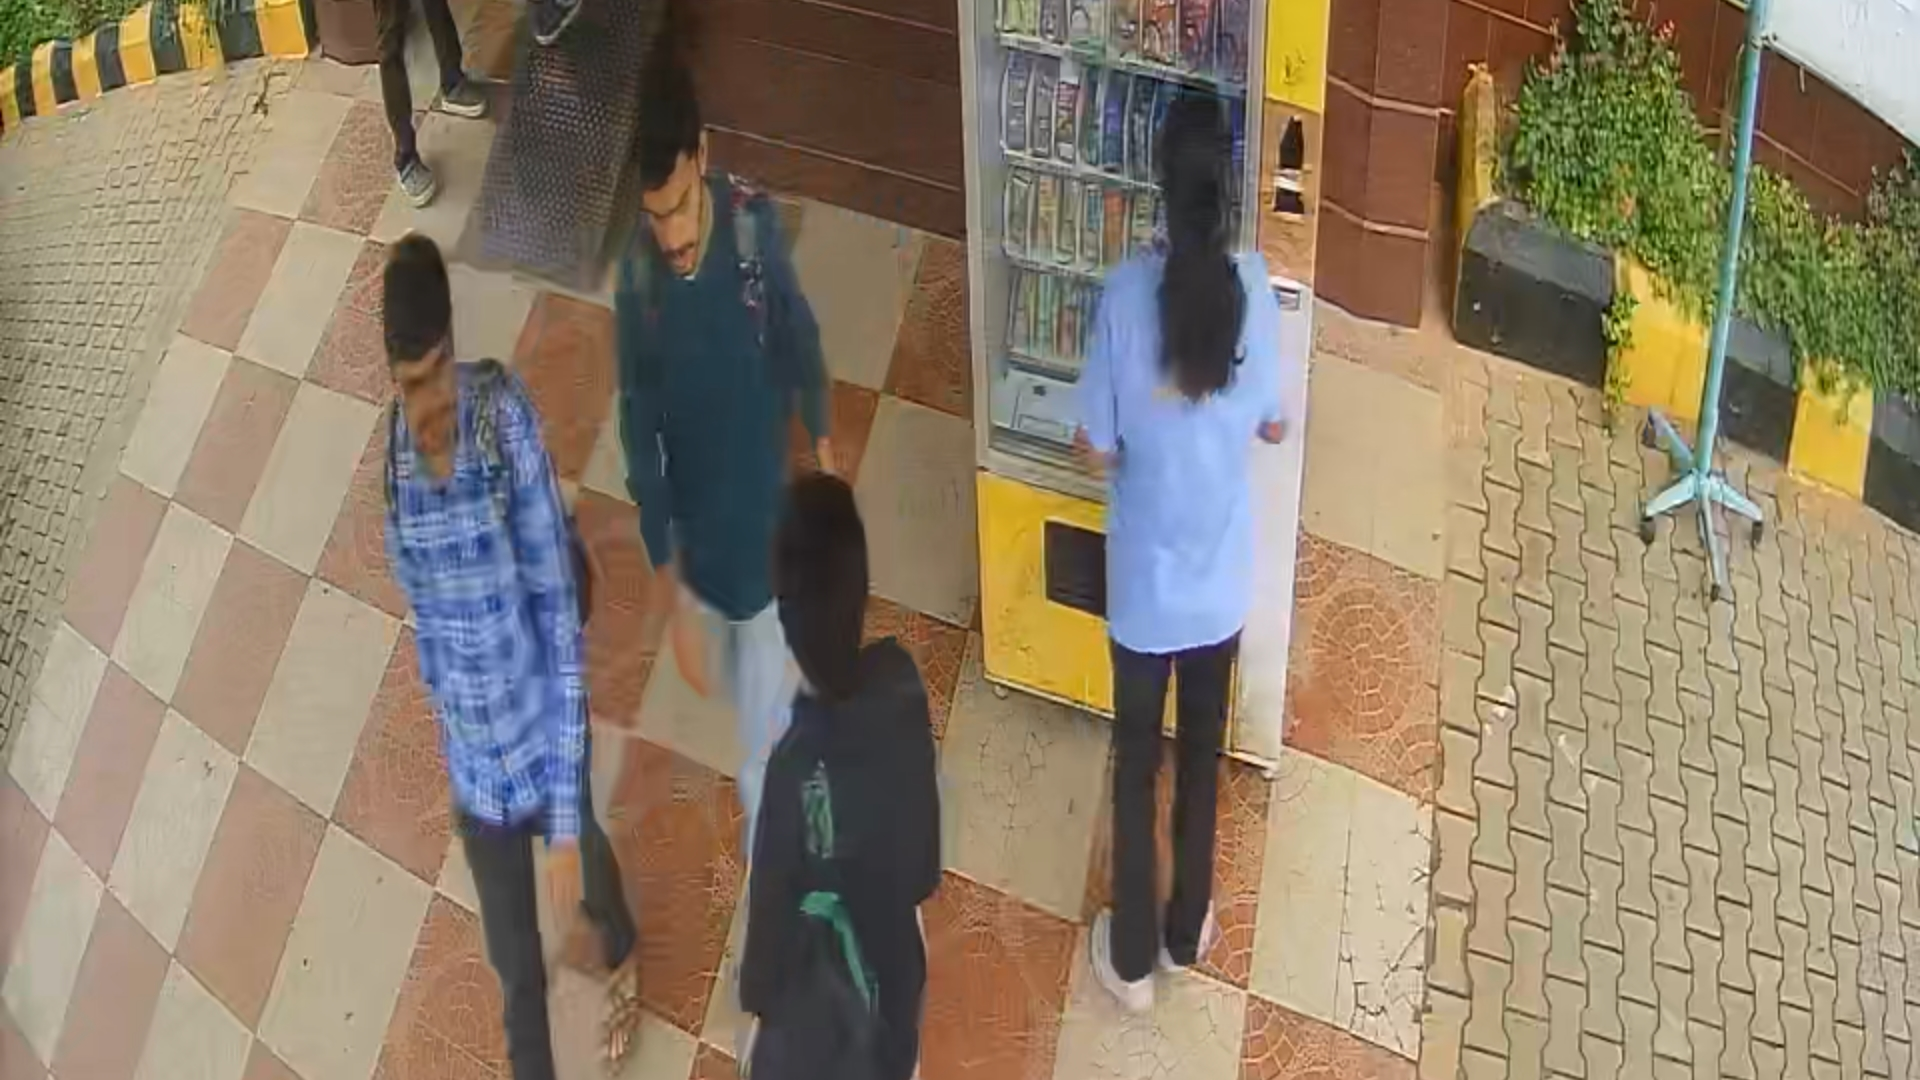intruder: (364, 245, 644, 1072), (622, 88, 832, 837)
